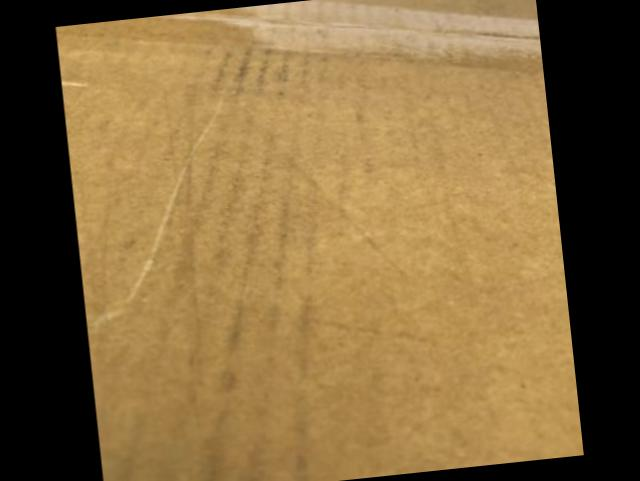cardboard paper: (56, 0, 584, 481)
